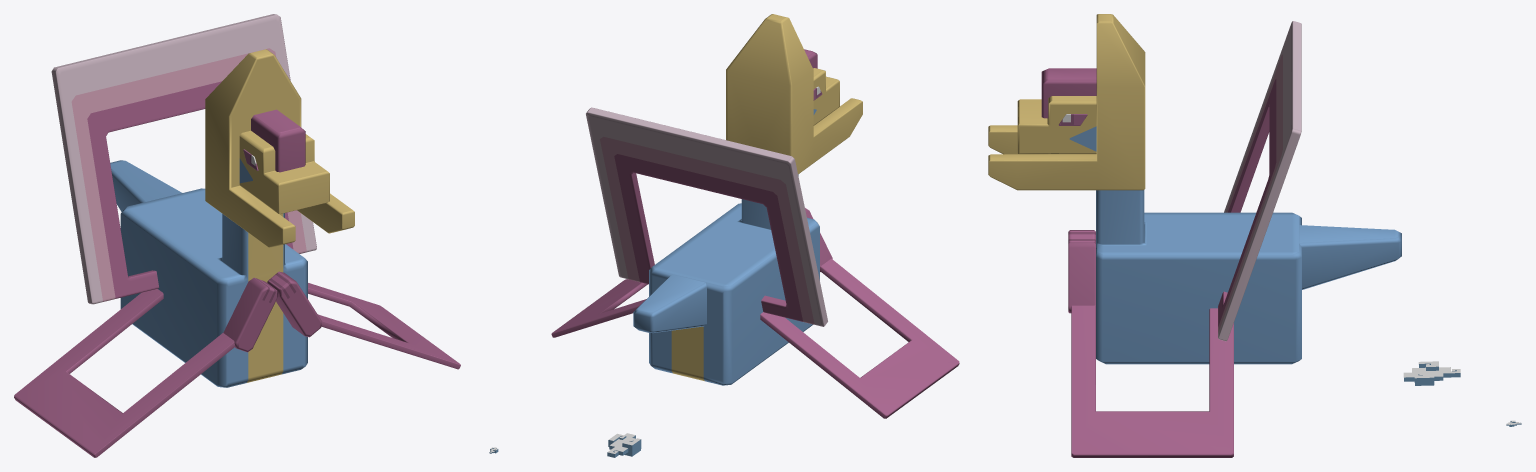
3 views of the same model, side by side, from view 1: azimuth 30°, elevation 25°; view 2: azimuth 150°, elevation 25°; view 3: azimuth 270°, elevation 25° (orthographic). The views are drawn at different scales.
Parts seen in each view (by area): view 1: model; view 2: model, E_Pokemon_Cloud3; view 3: model, E_Pokemon_Cloud3.
Boxes of the visible parts, x1,y1,x2,y2 form: model: (14, 14, 460, 457); model: (551, 14, 959, 418); E_Pokemon_Cloud3: (607, 433, 641, 457); model: (988, 14, 1401, 457); E_Pokemon_Cloud3: (1403, 361, 1460, 385).
Size of the model in its own units: 4.32 by 4.01 by 5.39.
